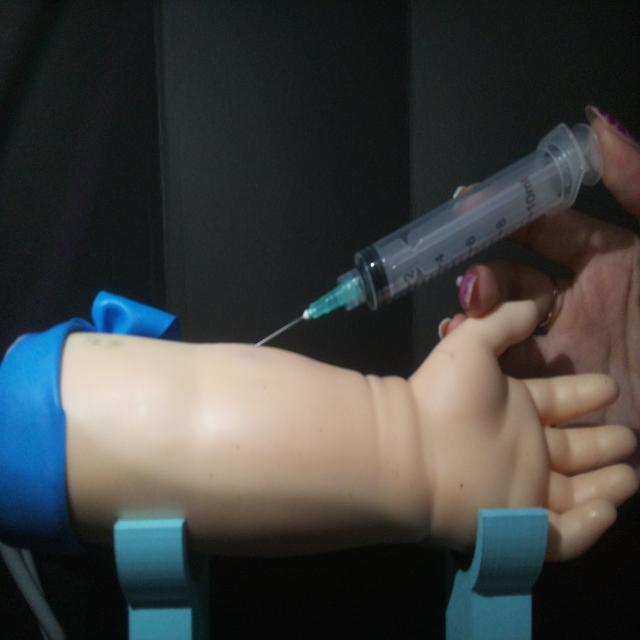28deg: (250, 112, 607, 350)
